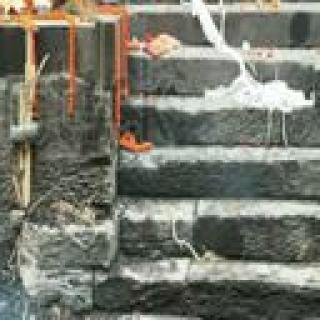fire: (0, 0, 45, 9)
